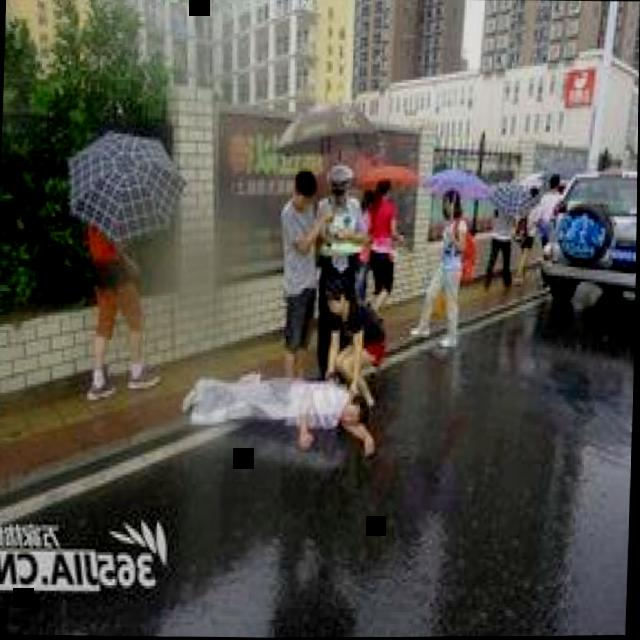Fall-Detected: (183, 342, 396, 460)
